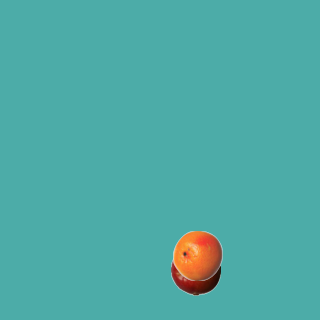Apple Braeburn: (170, 245, 220, 295)
Grapefruit Pink: (172, 230, 222, 280)
